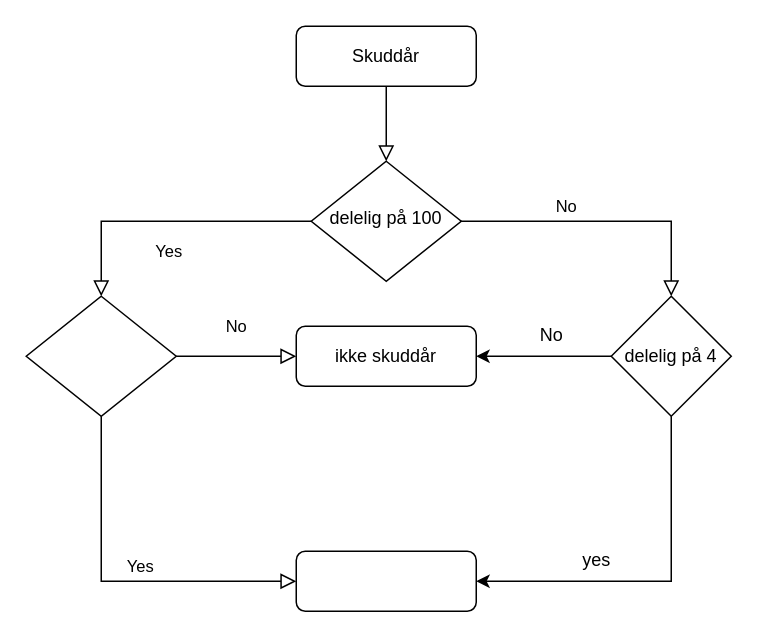
Some shapes in this 758 by 638 pixel diagram are drawn without their labels. The shapes that lost their labels are listed below. From the top down, each one's centre as x and y in pixels, then its label:
point (100, 355): delelig på 400
point (385, 580): Skuddår!
